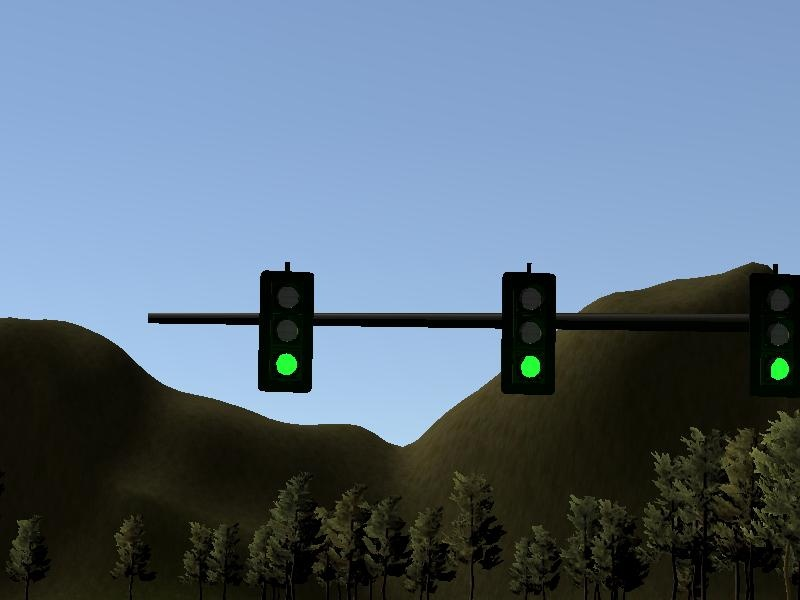green: (258, 269, 314, 395), (501, 273, 556, 396), (750, 273, 800, 398)
